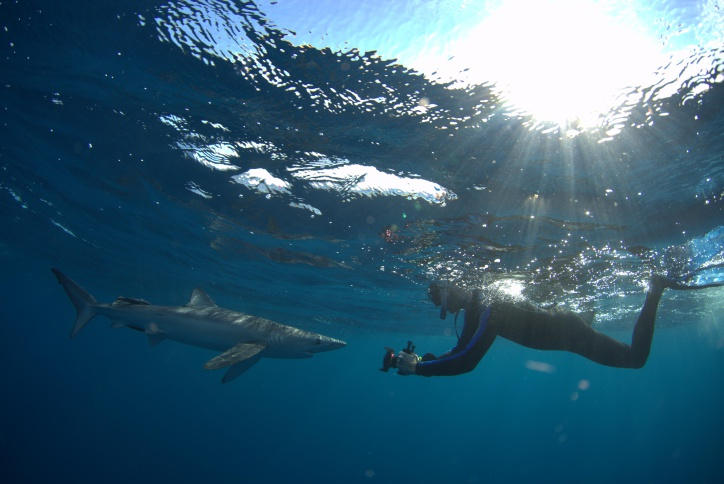Azul: (22, 254, 372, 395)
